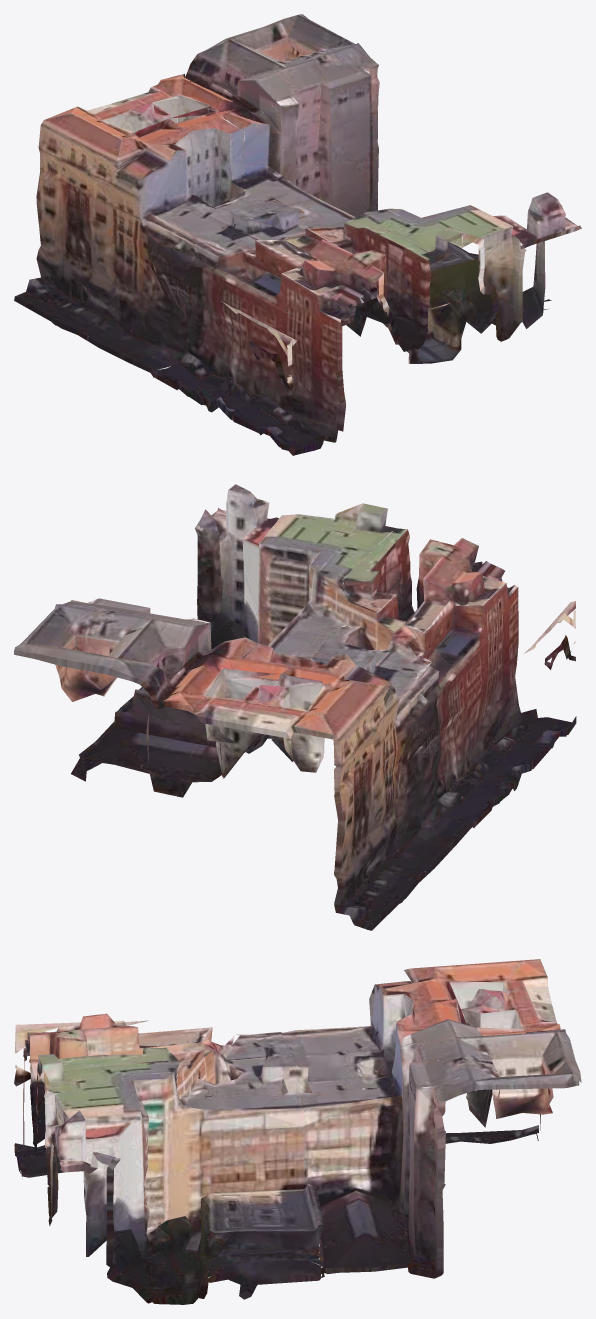
3 views of the same model, one above another, from view 1: azimuth 30°, elevation 25°; view 2: azimuth 150°, elevation 25°; view 3: azimuth 270°, elevation 25° (orthographic). The views are drawn at different scales.
Parts seen in each view (by area): view 1: Mesh_0; view 2: Mesh_0; view 3: Mesh_0.
Boxes of the visible parts, x1,y1,x2,y2 form: Mesh_0: (14,14,581,455); Mesh_0: (14,484,576,930); Mesh_0: (14,959,581,1304).
Bounding box in the file's own units: 67.15 × 36.52 × 82.71.
Materials: 2 (2 with a texture image).
